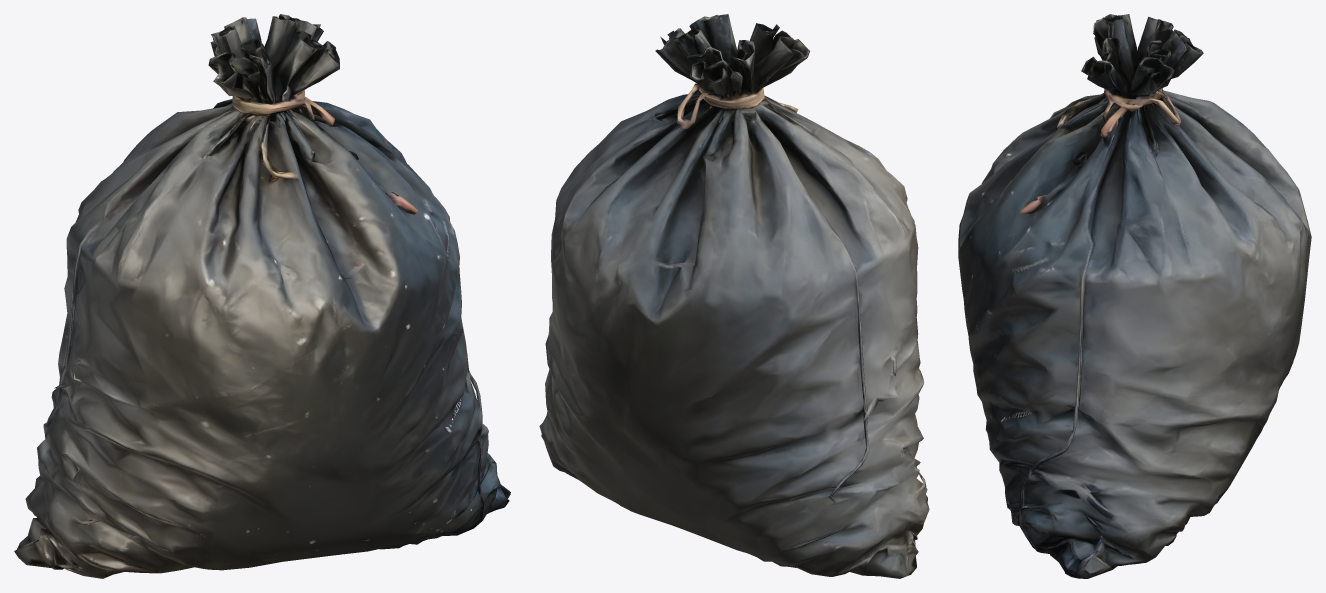
File: tripo_convert_4cf5caeb-ad38-4135-b78f-9d0d1eb4d18a.fbx
3 views of the same model, side by side, from view 1: azimuth 30°, elevation 25°; view 2: azimuth 150°, elevation 25°; view 3: azimuth 270°, elevation 25° (orthographic). The views are drawn at different scales.
Visible parts, largest first — view 1: tripo_node_4cf5caeb; view 2: tripo_node_4cf5caeb; view 3: tripo_node_4cf5caeb.
Boxes of the visible parts, x1,y1,x2,y2 form: tripo_node_4cf5caeb: (14,14,510,578); tripo_node_4cf5caeb: (539,14,929,578); tripo_node_4cf5caeb: (958,14,1311,578).
Size of the model in its own units: 0.8932 by 1 by 0.6915.
1 material, 1 textured.
